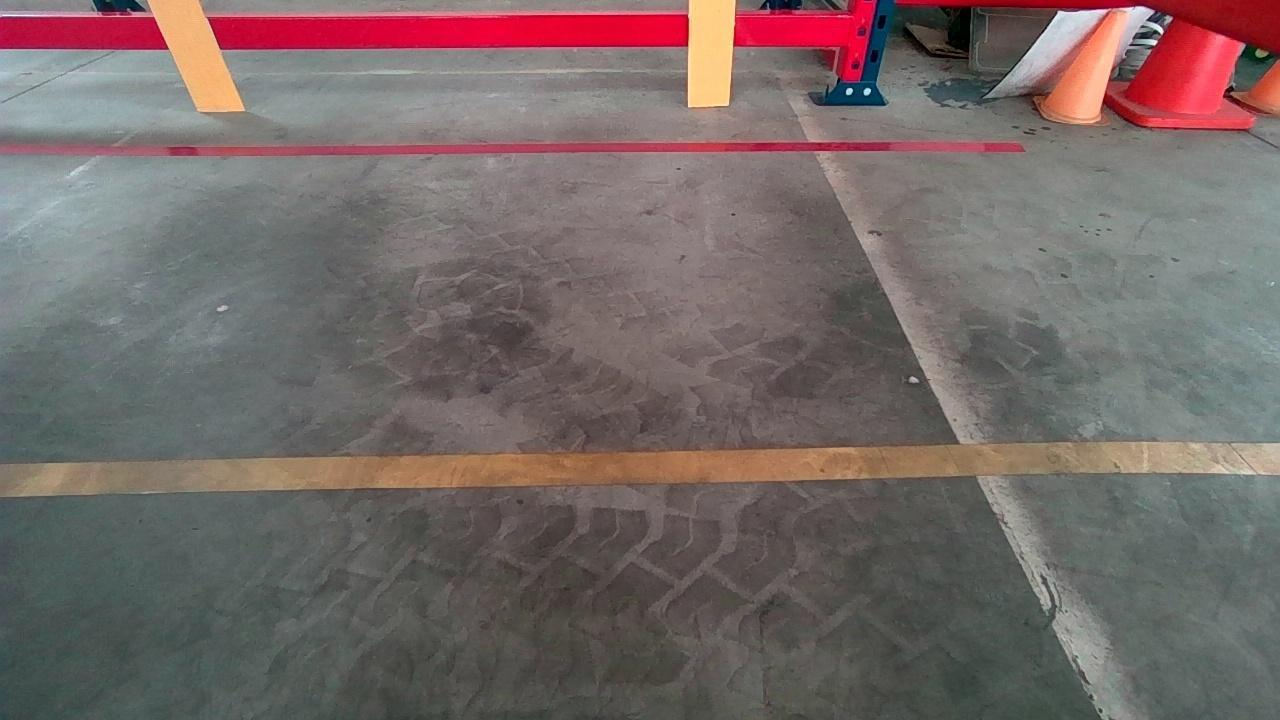h_rack: (0, 15, 856, 48)
orange_strip: (148, 0, 245, 110), (688, 0, 734, 104)
red_line: (0, 139, 1025, 156)
